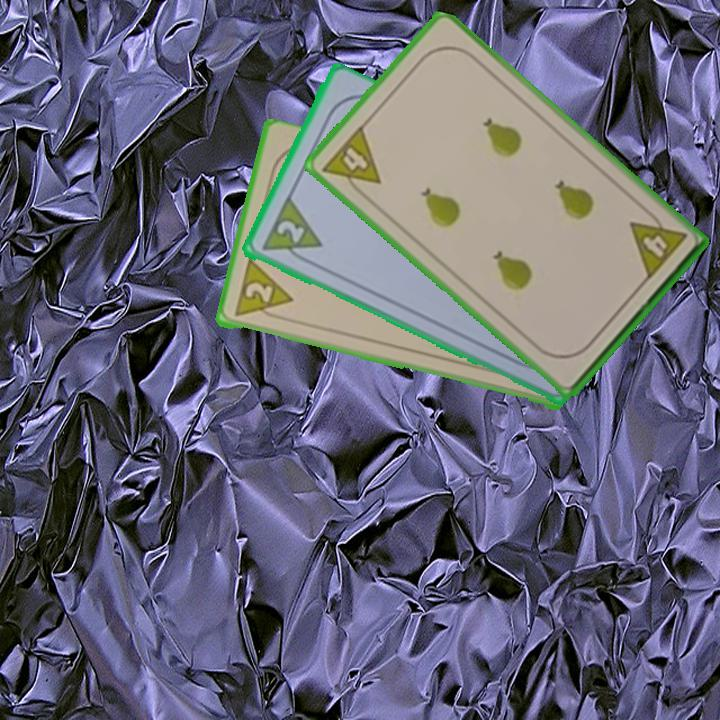2p: (257, 194, 325, 269), (230, 258, 295, 322)
4p: (318, 121, 384, 202), (625, 204, 689, 283)
